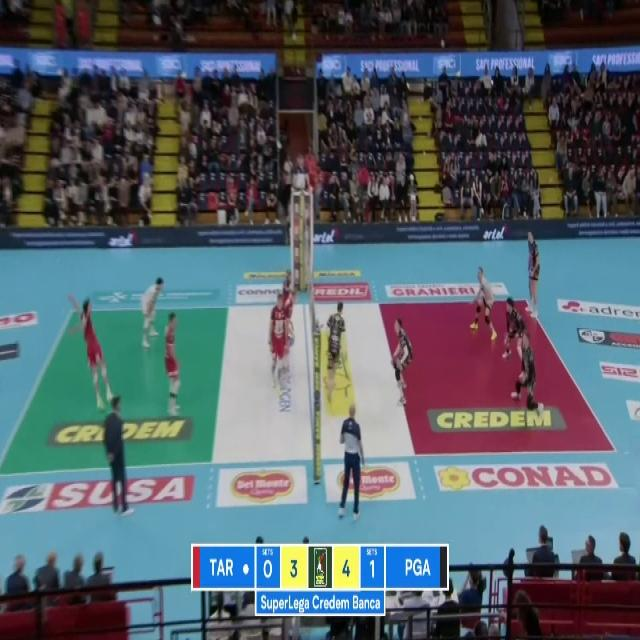volleyball court: (0, 296, 615, 478)
